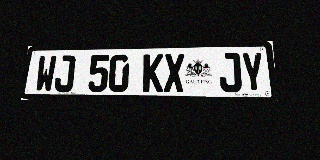0: (108, 54, 129, 92)
5: (88, 55, 110, 92)
J: (218, 53, 242, 92), (54, 55, 76, 92)
K: (142, 54, 163, 92)
W: (34, 56, 57, 92)
X: (164, 54, 185, 92)
Y: (240, 52, 265, 92)
